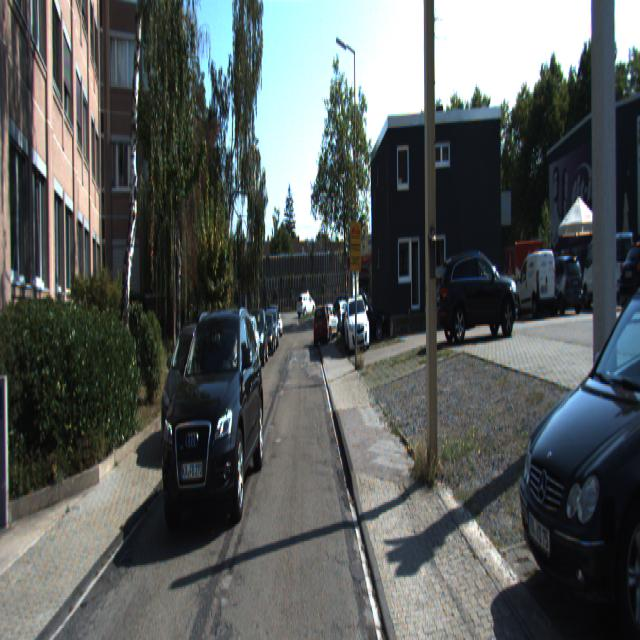Car: (501, 186, 639, 638), (152, 296, 266, 537), (158, 310, 225, 458), (435, 242, 521, 346), (202, 312, 248, 412), (582, 225, 634, 309), (536, 251, 585, 316), (515, 246, 558, 316), (230, 312, 261, 382), (344, 294, 370, 353), (313, 303, 330, 349), (296, 290, 316, 318)
